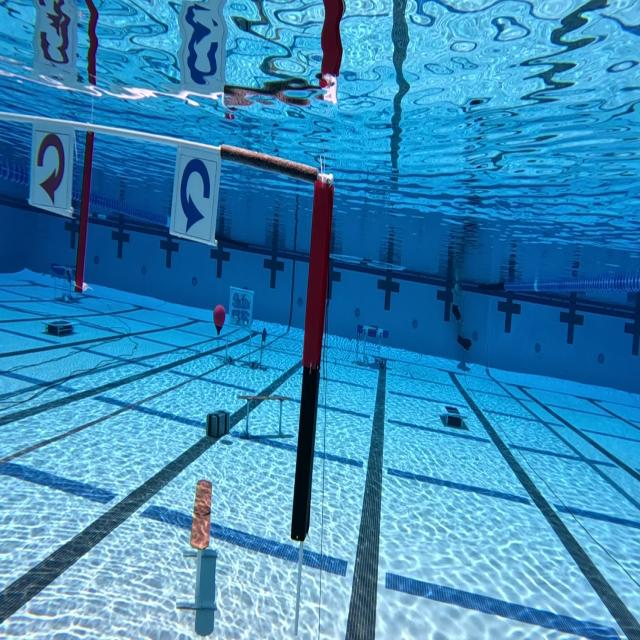blue_side: (168, 142, 222, 248)
red_side: (29, 121, 76, 218)
